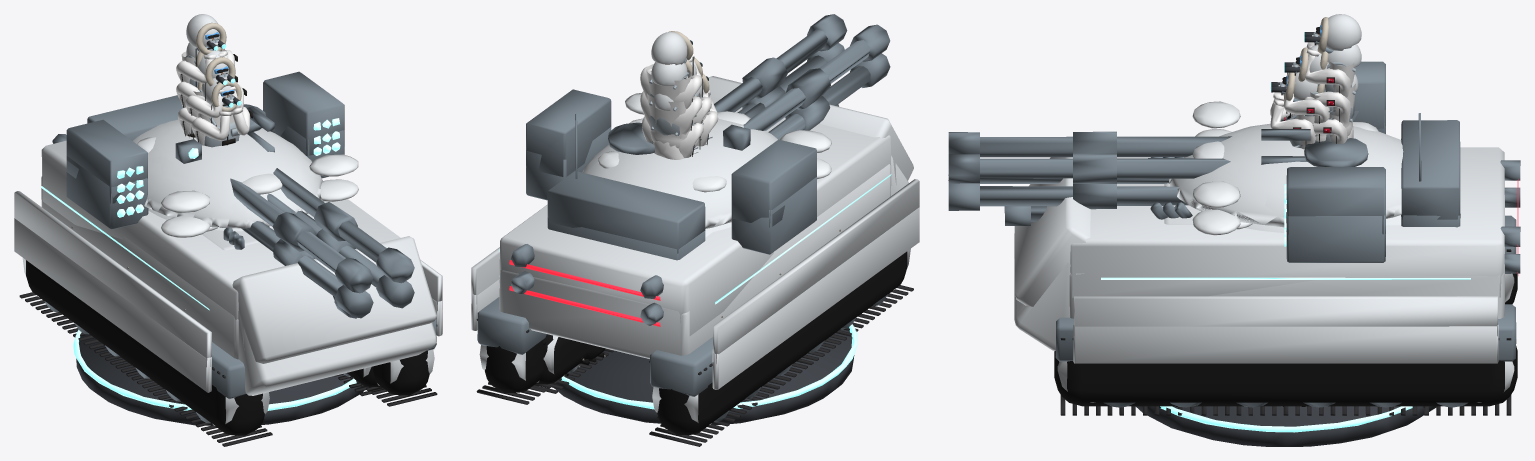
File: bjoern_arktis.glb
3 views of the same model, side by side, from view 1: azimuth 30°, elevation 25°; view 2: azimuth 150°, elevation 25°; view 3: azimuth 270°, elevation 25° (orthographic). The views are drawn at different scales.
Parts seen in each view (by area): view 1: op4_net, ned4_net, fod_net, ned1.001_net, ned2.001_net, op4.002_net, op4.001_net, ned2_net, ned3.001_net, ned1.003_net, ned2.002_net, ned4.001_net; view 2: op4_net, ned4_net, fod_net, ned3.001_net, ned4.001_net, op4.001_net, op4.002_net, ned3_net, ned4.002_net, ned1.001_net, ned2.001_net; view 3: op4_net, ned4_net, fod_net, op4.001_net, op4.002_net, ned2.001_net, ned1.001_net, ned4.001_net, ned2_net, ned3.001_net, ned3_net, ned1.003_net (+1 smaller).
Boxes of the visible parts, x1=… form: op4_net: x1=14, y1=71, x2=442, y2=399; ned4_net: x1=14, y1=126, x2=442, y2=446; fod_net: x1=73, y1=329, x2=364, y2=425; ned1.001_net: x1=191, y1=91, x2=252, y2=147; ned2.001_net: x1=71, y1=194, x2=324, y2=310; op4.002_net: x1=186, y1=14, x2=226, y2=54; op4.001_net: x1=176, y1=34, x2=237, y2=136; ned2_net: x1=185, y1=68, x2=246, y2=138; ned3.001_net: x1=263, y1=296, x2=383, y2=420; ned1.003_net: x1=201, y1=78, x2=241, y2=111; ned2.002_net: x1=196, y1=50, x2=235, y2=86; ned4.001_net: x1=176, y1=75, x2=237, y2=137; op4_net: x1=471, y1=14, x2=919, y2=396; ned4_net: x1=471, y1=43, x2=919, y2=446; fod_net: x1=554, y1=324, x2=857, y2=425; ned3.001_net: x1=532, y1=104, x2=838, y2=418; ned4.001_net: x1=640, y1=91, x2=702, y2=156; op4.001_net: x1=640, y1=54, x2=702, y2=159; op4.002_net: x1=651, y1=31, x2=693, y2=65; ned3_net: x1=642, y1=116, x2=703, y2=157; ned4.002_net: x1=651, y1=59, x2=692, y2=85; ned1.001_net: x1=697, y1=90, x2=718, y2=146; ned2.001_net: x1=543, y1=102, x2=840, y2=376; op4_net: x1=948, y1=61, x2=1520, y2=361; ned4_net: x1=948, y1=110, x2=1520, y2=415; fod_net: x1=1136, y1=406, x2=1436, y2=446; op4.001_net: x1=1305, y1=27, x2=1355, y2=138; op4.002_net: x1=1317, y1=14, x2=1361, y2=53; ned2.001_net: x1=1148, y1=113, x2=1424, y2=407; ned1.001_net: x1=1270, y1=77, x2=1315, y2=149; ned4.001_net: x1=1304, y1=84, x2=1355, y2=135; ned2_net: x1=1284, y1=57, x2=1329, y2=142; ned3.001_net: x1=1004, y1=206, x2=1046, y2=225; ned3_net: x1=1303, y1=111, x2=1352, y2=143; ned1.003_net: x1=1283, y1=72, x2=1317, y2=101.
Size of the model in its own units: 1.94 by 2.26 by 3.24.
